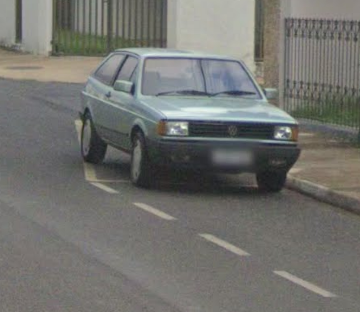car: (75, 47, 301, 205)
